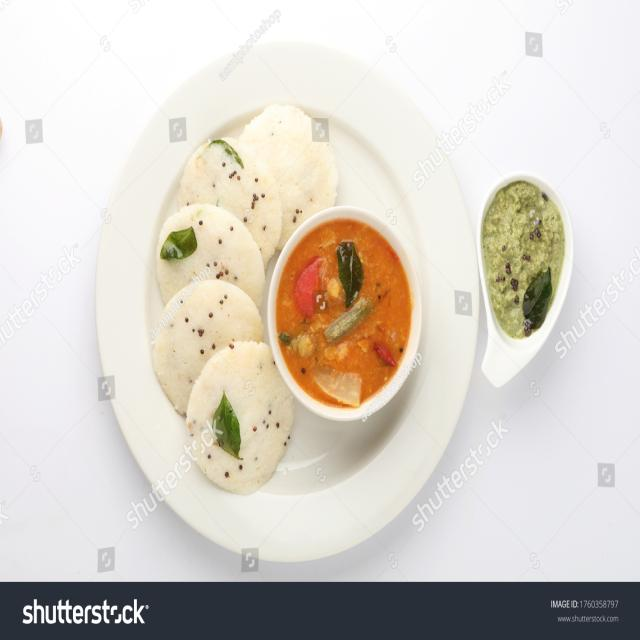IDLI: (152, 102, 339, 501)
